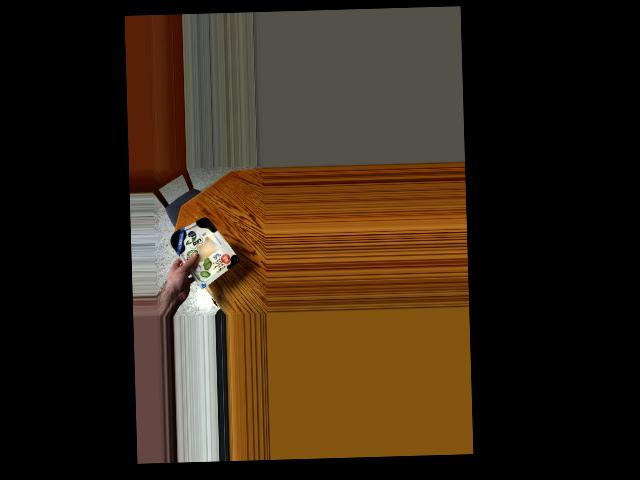cheese: (165, 219, 235, 278)
